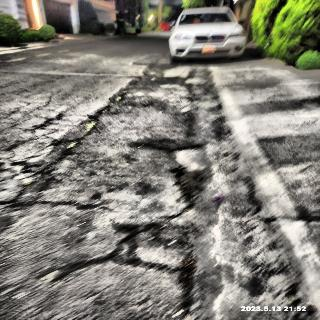alligator-crack: (0, 72, 215, 296)
